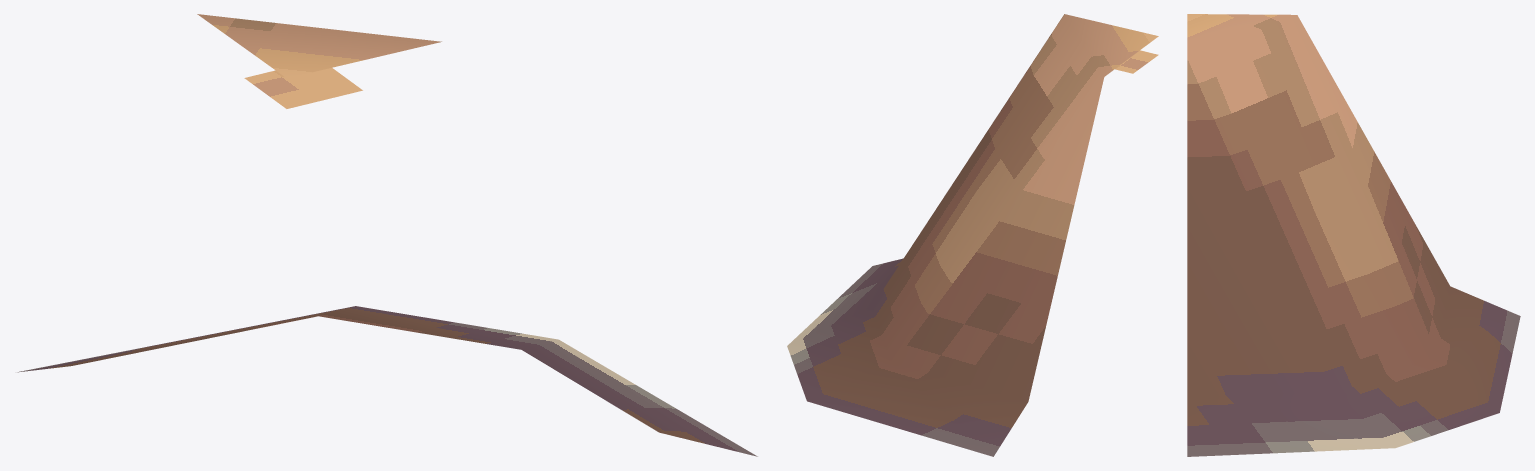
3 renders of one model, left to right at view 1: azimuth 30°, elevation 25°; view 2: azimuth 150°, elevation 25°; view 3: azimuth 270°, elevation 25°, orthographic. The views are drawn at different scales.
Bounding box in the file's own units: 1 × 1 × 1.
3 materials, 3 textured.
